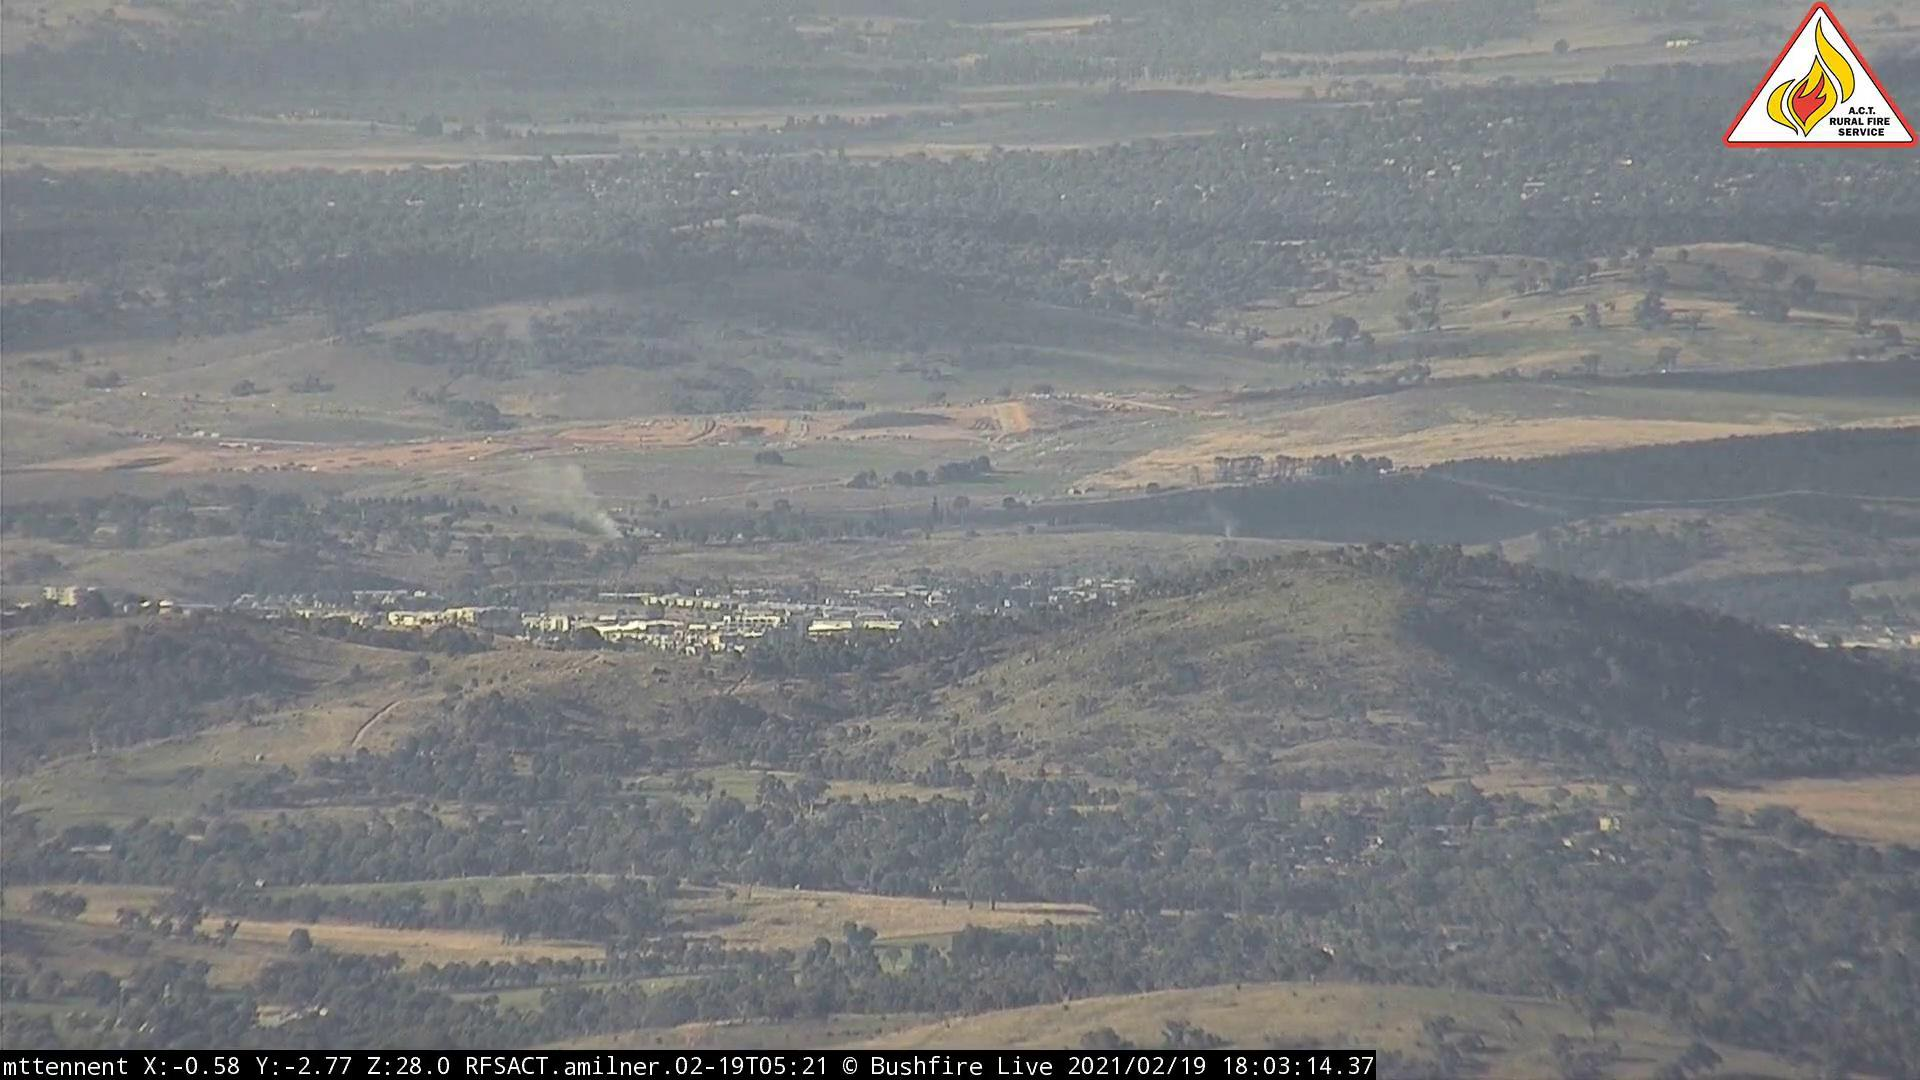Smoke: (524, 465, 651, 547)
